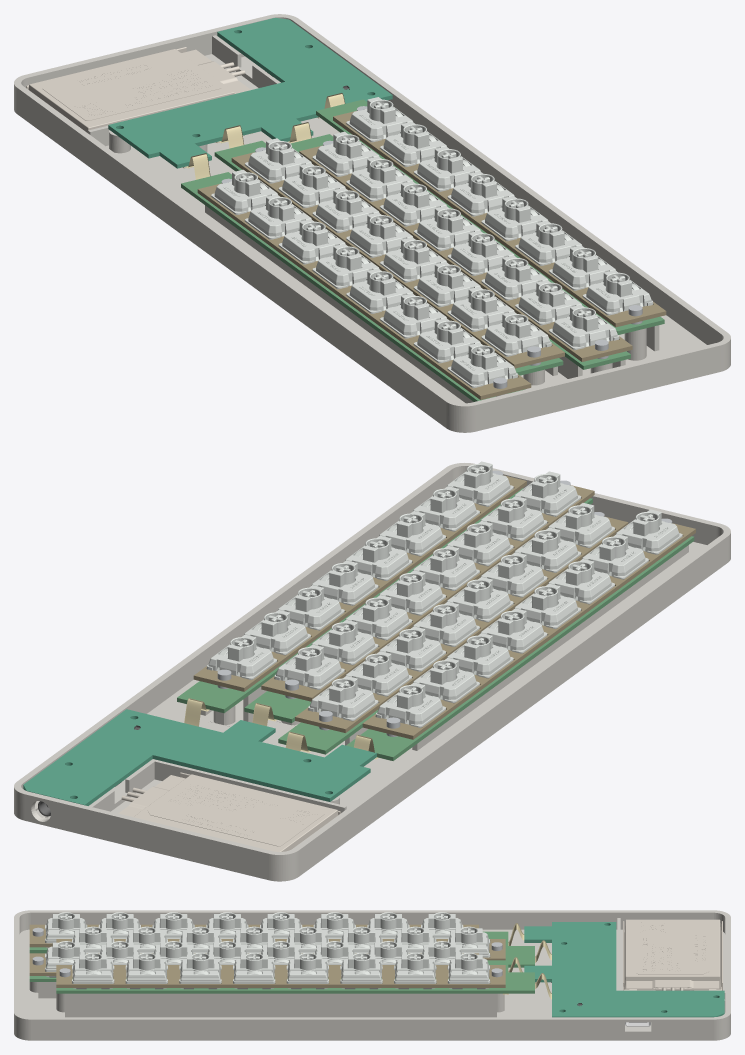
File: conjunto.glb
3 renders of one model, top to bottom at view 1: azimuth 30°, elevation 25°; view 2: azimuth 150°, elevation 25°; view 3: azimuth 270°, elevation 25°, orthographic. The views are drawn at different scales.
Visible parts, largest first — view 1: Renderer Node; view 2: Renderer Node; view 3: Renderer Node.
Part boxes in pixels (x1=…): Renderer Node: x1=14, y1=14, x2=730, y2=432; Renderer Node: x1=14, y1=461, x2=730, y2=881; Renderer Node: x1=14, y1=910, x2=730, y2=1040.
Size of the model in its own units: 89.1 by 21.4 by 247.
